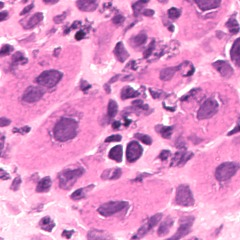New: (16, 96, 113, 172), (1, 42, 82, 126), (79, 176, 175, 232), (166, 81, 240, 152), (187, 136, 240, 198), (173, 1, 235, 50)
